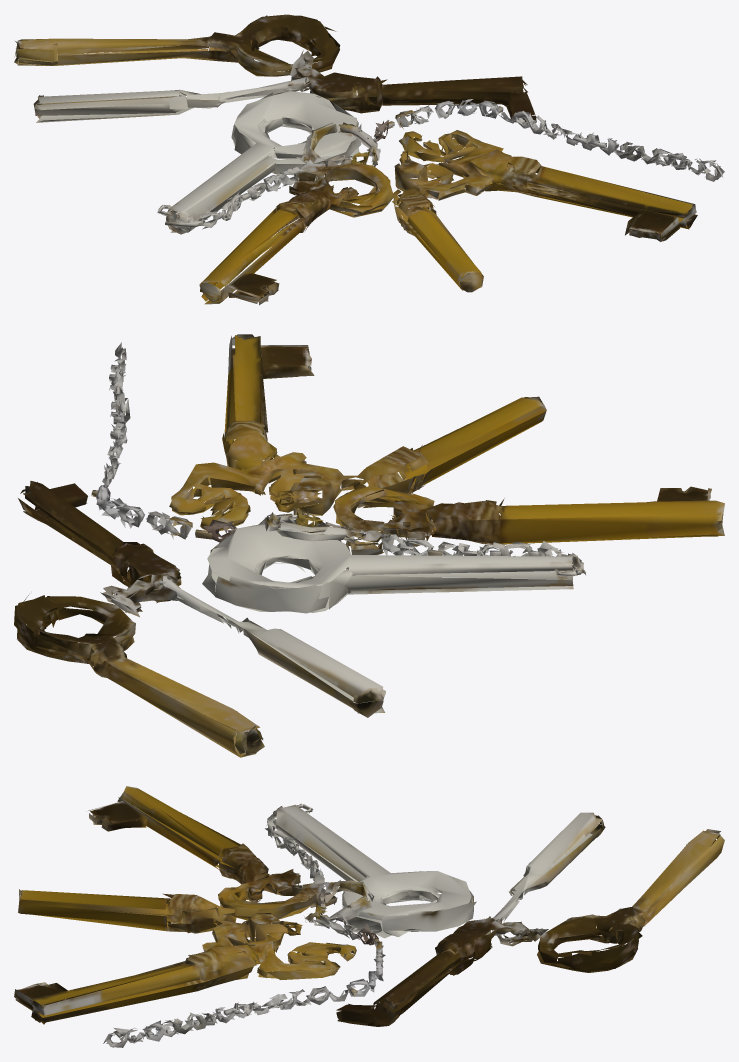
3 views of the same model, one above another, from view 1: azimuth 30°, elevation 25°; view 2: azimuth 150°, elevation 25°; view 3: azimuth 270°, elevation 25° (orthographic). The views are drawn at different scales.
Parts seen in each view (by area): view 1: material; view 2: material; view 3: material.
Boxes of the visible parts, x1=… form: material: x1=14, y1=14, x2=724, y2=305; material: x1=14, y1=334, x2=724, y2=757; material: x1=14, y1=786, x2=724, y2=1047.
Size of the model in its own units: 1.59 by 0.1205 by 1.91.
1 material, 1 textured.
